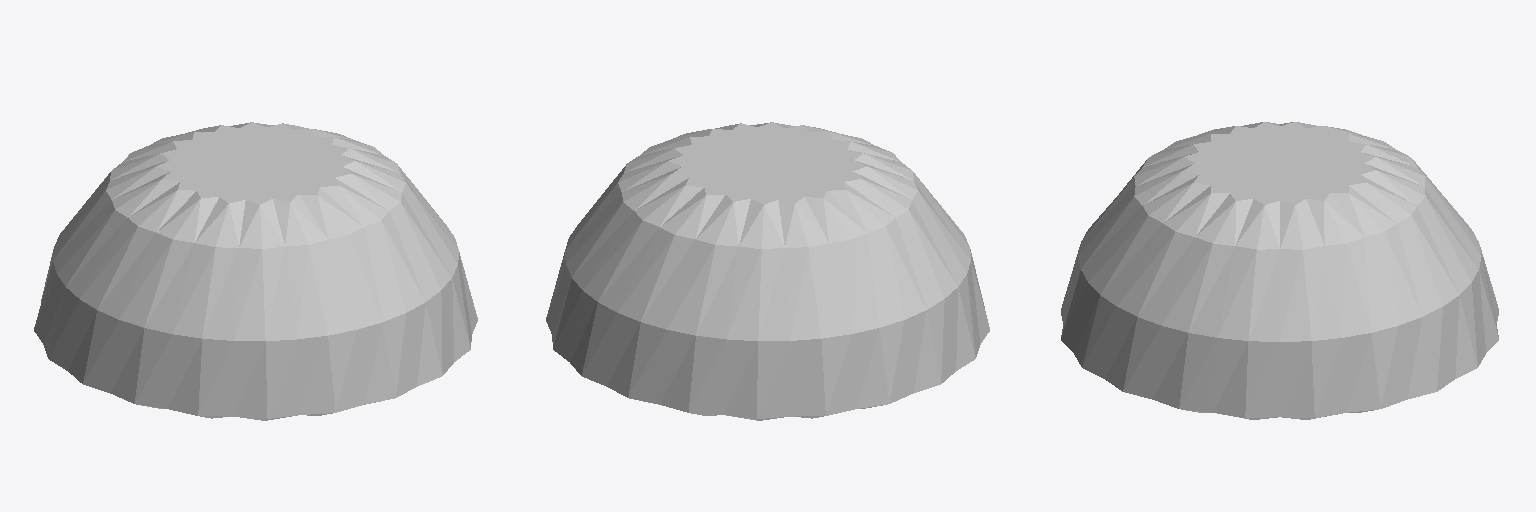
The model's file is rightlegsleeve.obj.
The picture shows the model from 3 angles: view 1: azimuth 30°, elevation 25°; view 2: azimuth 150°, elevation 25°; view 3: azimuth 270°, elevation 25°; orthographic projection.
Parts seen in each view (by area): view 1: polySurface8 rightleg spongebob; view 2: polySurface8 rightleg spongebob; view 3: polySurface8 rightleg spongebob.
Boxes of the visible parts, <box> form: polySurface8 rightleg spongebob: <box>34,122,477,420</box>; polySurface8 rightleg spongebob: <box>546,122,989,420</box>; polySurface8 rightleg spongebob: <box>1061,122,1498,419</box>.
Size of the model in its own units: 1.32 by 0.6148 by 1.32.